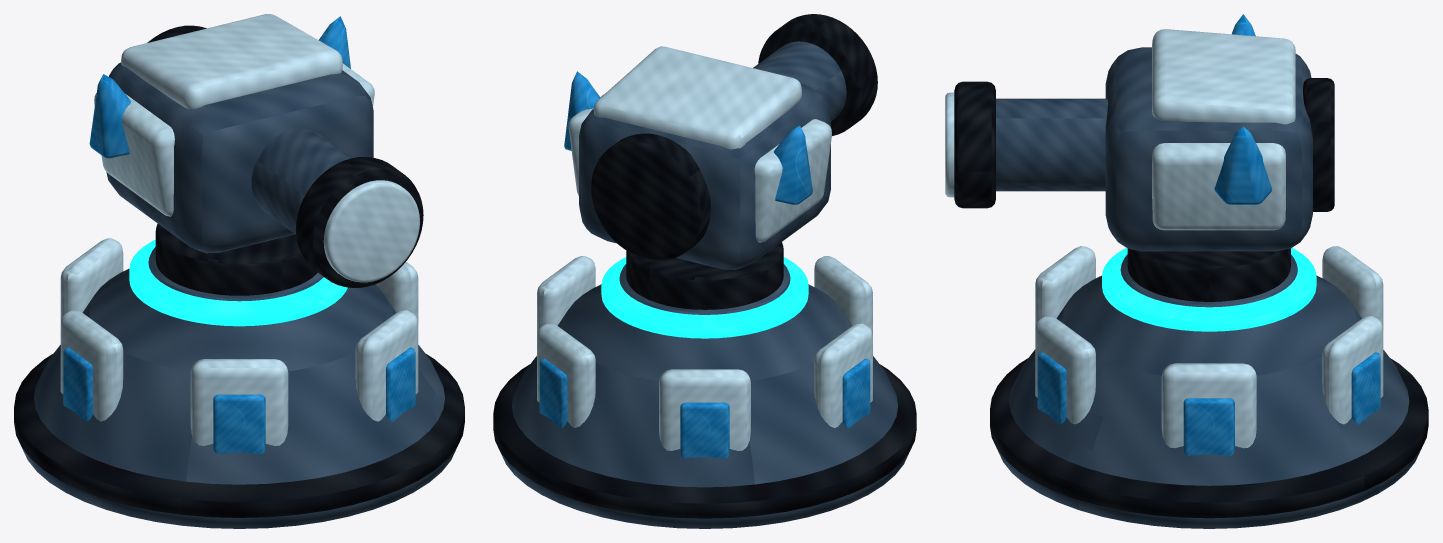
The model's file is 01_SnowboltTurret_FINAL.glb.
3 views of the same model, side by side, from view 1: azimuth 30°, elevation 25°; view 2: azimuth 150°, elevation 25°; view 3: azimuth 270°, elevation 25° (orthographic). The views are drawn at different scales.
Visible parts, largest first — view 1: Stand_MainBody, Head_CoreHousing, Stand_LowerArmorRing, Head_TopArmor, Head_MuzzleIceRing, Stand_RotationNeck, Stand_EnergyRing, Stand_ArmorPanel.004, Head_CannonBody, Head_Muzzle, Head_SideArmor, Stand_ArmorPanel.003 (+8 smaller); view 2: Stand_MainBody, Stand_LowerArmorRing, Head_CoreHousing, Head_TopArmor, Head_RearCap, Stand_RotationNeck, Stand_EnergyRing, Head_Muzzle, Stand_ArmorPanel.002, Head_SideArmor, Stand_ArmorPanel.001, Stand_ArmorPanel.003 (+9 smaller); view 3: Stand_MainBody, Head_CoreHousing, Stand_LowerArmorRing, Head_TopArmor, Head_CannonBody, Head_SideArmor.001, Stand_RotationNeck, Stand_EnergyRing, Stand_ArmorPanel, Head_Muzzle, Stand_ArmorPanel.001, Stand_ArmorPanel.005 (+8 smaller).
Part boxes in pixels (x1=…): Stand_MainBody: x1=22, y1=247, x2=456, y2=528; Head_CoreHousing: x1=106, y1=62, x2=373, y2=253; Stand_LowerArmorRing: x1=14, y1=353, x2=464, y2=517; Head_TopArmor: x1=121, y1=14, x2=342, y2=108; Head_MuzzleIceRing: x1=323, y1=180, x2=419, y2=282; Stand_RotationNeck: x1=155, y1=224, x2=317, y2=295; Stand_EnergyRing: x1=129, y1=239, x2=347, y2=326; Stand_ArmorPanel.004: x1=190, y1=359, x2=288, y2=445; Head_CannonBody: x1=251, y1=128, x2=351, y2=234; Head_Muzzle: x1=296, y1=157, x2=423, y2=287; Head_SideArmor: x1=94, y1=93, x2=174, y2=216; Stand_ArmorPanel.003: x1=60, y1=310, x2=123, y2=421; Stand_MainBody: x1=501, y1=264, x2=908, y2=528; Stand_LowerArmorRing: x1=493, y1=364, x2=916, y2=518; Head_CoreHousing: x1=579, y1=83, x2=830, y2=269; Head_TopArmor: x1=593, y1=46, x2=801, y2=149; Head_RearCap: x1=591, y1=133, x2=710, y2=260; Stand_RotationNeck: x1=626, y1=242, x2=783, y2=309; Stand_EnergyRing: x1=601, y1=257, x2=808, y2=338; Head_Muzzle: x1=758, y1=14, x2=877, y2=135; Stand_ArmorPanel.002: x1=659, y1=369, x2=750, y2=450; Head_SideArmor: x1=754, y1=119, x2=831, y2=242; Stand_ArmorPanel.001: x1=537, y1=323, x2=595, y2=427; Stand_ArmorPanel.003: x1=814, y1=323, x2=872, y2=427; Stand_MainBody: x1=998, y1=254, x2=1420, y2=528; Head_CoreHousing: x1=1105, y1=47, x2=1312, y2=251; Stand_LowerArmorRing: x1=990, y1=358, x2=1428, y2=518; Head_TopArmor: x1=1152, y1=29, x2=1295, y2=124; Head_CannonBody: x1=996, y1=98, x2=1107, y2=191; Head_SideArmor.001: x1=1152, y1=143, x2=1285, y2=230; Stand_RotationNeck: x1=1127, y1=248, x2=1290, y2=301; Stand_EnergyRing: x1=1102, y1=248, x2=1316, y2=331; Stand_ArmorPanel: x1=1161, y1=363, x2=1256, y2=448; Head_Muzzle: x1=954, y1=81, x2=995, y2=208; Stand_ArmorPanel.001: x1=1322, y1=316, x2=1383, y2=424; Stand_ArmorPanel.005: x1=1035, y1=316, x2=1095, y2=424.
Bounding box in the file's own units: 3.6 × 3.41 × 3.96.
5 materials, 5 textured.
